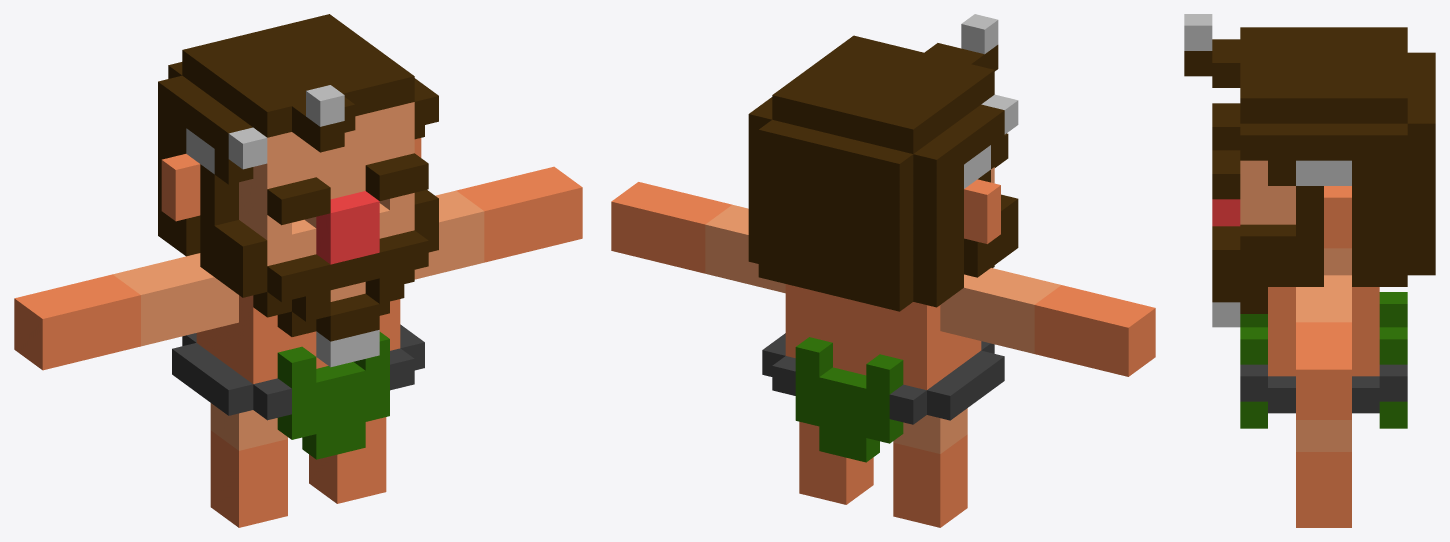
The model's file is Hombre.glb.
The picture shows the model from 3 angles, left to right: view 1: azimuth 30°, elevation 25°; view 2: azimuth 150°, elevation 25°; view 3: azimuth 270°, elevation 25°; orthographic projection. The views are drawn at different scales.
Visible parts, largest first — view 1: Hombre; view 2: Hombre; view 3: Hombre.
Boxes of the visible parts, x1,y1,x2,y2 form: Hombre: (14,14,582,527); Hombre: (611,14,1155,527); Hombre: (1184,14,1435,527).
Size of the model in its own units: 2.2 by 1.8 by 0.9.
1 material, 1 textured.
